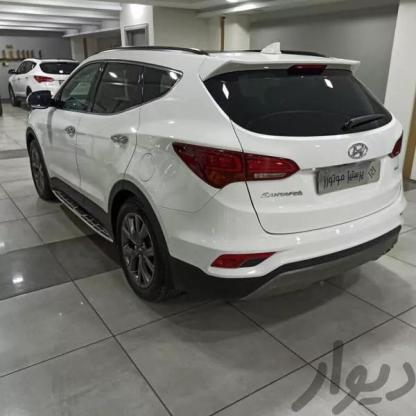Car: (26, 42, 402, 307), (0, 55, 74, 99)
